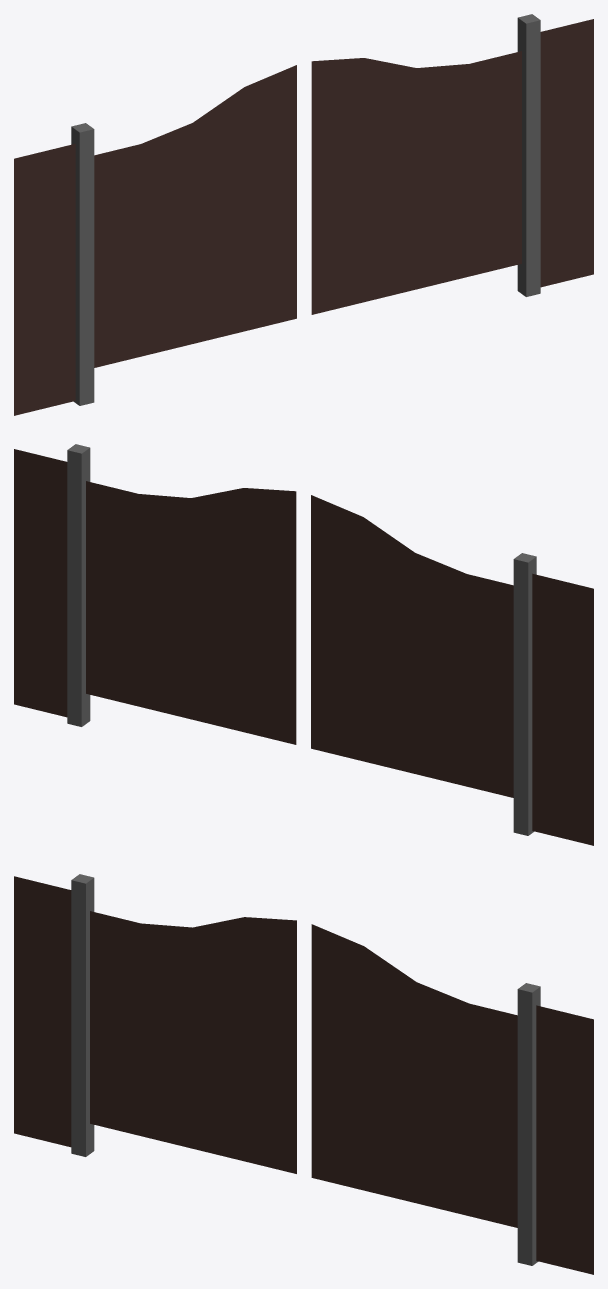
Rendered from barrier_gate.obj.
3 renders of one model, top to bottom at view 1: azimuth 30°, elevation 25°; view 2: azimuth 150°, elevation 25°; view 3: azimuth 330°, elevation 25°, orthographic.
Parts seen in each view (by area): view 1: barrier_gate; view 2: barrier_gate; view 3: barrier_gate.
Boxes of the visible parts, box(x1,y1,x2,y2) form: barrier_gate: box(14, 14, 593, 415); barrier_gate: box(14, 444, 593, 845); barrier_gate: box(14, 874, 593, 1274).
Size of the model in its own units: 3.99 by 1.87 by 0.1.
